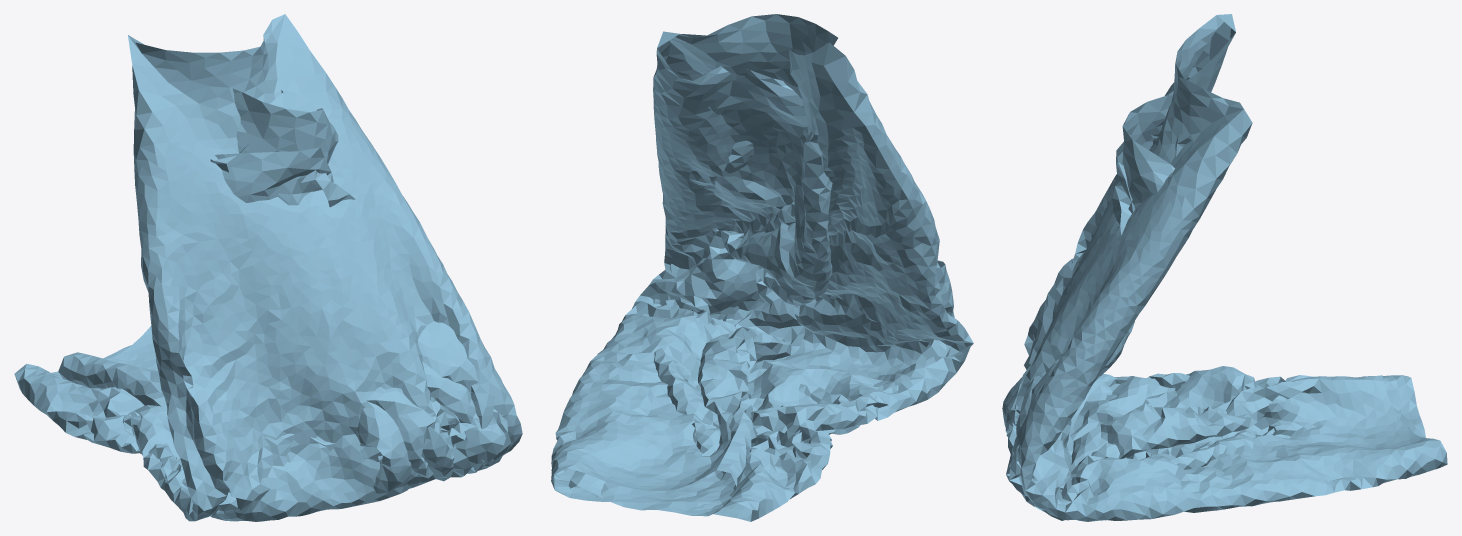
File: frame_14.glb
The picture shows the model from 3 angles, left to right: view 1: azimuth 30°, elevation 25°; view 2: azimuth 150°, elevation 25°; view 3: azimuth 270°, elevation 25°; orthographic projection. The views are drawn at different scales.
Parts seen in each view (by area): view 1: frame_14.obj; view 2: frame_14.obj; view 3: frame_14.obj.
Boxes of the visible parts, x1,y1,x2,y2 form: frame_14.obj: (14,14,522,521); frame_14.obj: (551,14,973,521); frame_14.obj: (1002,14,1447,521).
Bounding box in the file's own units: 0.8368 × 1.03 × 1.06.
